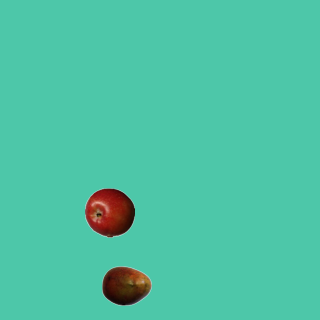Apple Braeburn: (84, 187, 134, 237)
Mango Red: (101, 260, 151, 310)
